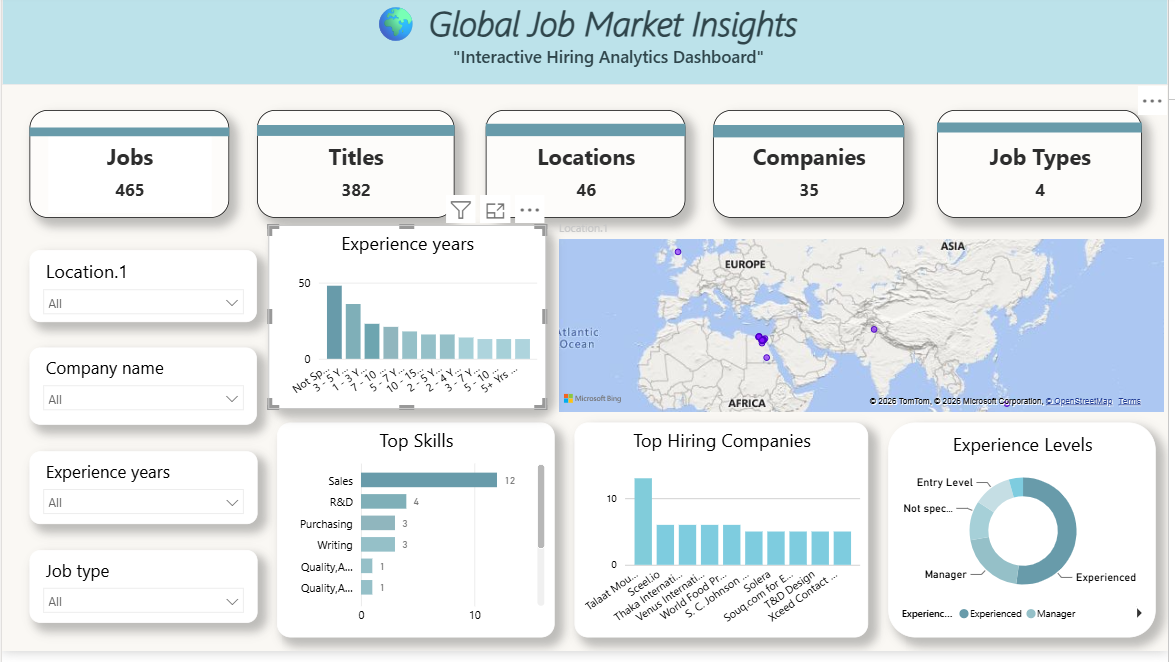

The dashboard page shown, as its layout file describes it:
{"tool":"powerbi","page":{"name":"Page 2","canvas":[1280,720],"ordinal":1},"visuals":[{"type":"cardVisual","fields":{"Data":["cleaned_dataset.Jobs","cleaned_dataset.Jobs"]},"box":[30.2,126.2,219.6,118],"z":2000},{"type":"cardVisual","fields":{"Data":["cleaned_dataset.Total Job Titles"]},"box":[279.9,126.2,216.8,118],"z":3000},{"type":"cardVisual","fields":{"Data":["cleaned_dataset.Total Locations"]},"box":[531,126.2,219.6,118],"z":4000},{"type":"cardVisual","fields":{"Data":["cleaned_dataset.Total Companies"]},"box":[780.8,126.2,209.9,118],"z":5000},{"type":"cardVisual","fields":{"Data":["cleaned_dataset.Total Job Types"]},"box":[1026.4,126.2,225,118],"z":6000},{"type":"shape","box":[30.2,145.5,219.6,9.6],"z":7000},{"type":"shape","box":[279.9,142.7,216.8,12.3],"z":8000},{"type":"shape","box":[531,141.3,219.6,13.7],"z":9000},{"type":"shape","box":[780.8,142.7,209.9,13.7],"z":10000},{"type":"shape","box":[1026.4,140,225,11],"z":11000},{"type":"slicer","fields":{"Values":["cleaned_dataset.Company name"]},"box":[30.2,387,249.7,85.1],"z":12000},{"type":"slicer","fields":{"Values":["cleaned_dataset.Location.1"]},"box":[30.2,279.9,249.7,79.6],"z":13000},{"type":"slicer","fields":{"Values":["cleaned_dataset.Job type"]},"box":[30.2,609.3,250,80.2],"z":14000},{"type":"slicer","fields":{"Values":["cleaned_dataset.Experience years"]},"box":[30.2,501.2,250,80.2],"z":15000},{"type":"columnChart","title":"Top Hiring Companies","fields":{"Category":["cleaned_dataset.Company name"],"Y":["CountNonNull(cleaned_dataset.Job type)"]},"box":[628.5,469.3,322.5,236],"z":16000},{"type":"lineClusteredColumnComboChart","title":" Experience years","fields":{"Category":["cleaned_dataset.Experience years"],"Y":["cleaned_dataset.Total Job Titles"]},"box":[292.3,252.5,304.6,201.7],"z":17000},{"type":"barChart","title":"Top Skills","fields":{"Category":["cleaned_dataset.Skills.1"],"Y":["cleaned_dataset.Total Job Titles"]},"box":[301.9,469.3,304.6,236],"z":18000},{"type":"donutChart","title":"Experience Levels","fields":{"Category":["cleaned_dataset.Experience Level"],"Y":["cleaned_dataset.Total Jobs"]},"box":[972.9,469.3,293.7,236],"z":19000},{"type":"map","fields":{"Category":["cleaned_dataset.Location.1"]},"box":[606.5,247,673.8,215.4],"z":19001},{"type":"textbox","box":[0,0,1280.3,98.8],"z":19002}]}

Visuals, with their boxes in screenshot pixels (x1, y1, x2, y2), scaled from the page's 1280x720 canvas onto the 1175x662 screenshot:
cardVisual - cleaned_dataset.Jobs x cleaned_dataset.Jobs: crop(28, 116, 229, 225)
cardVisual - cleaned_dataset.Total Job Titles: crop(257, 116, 456, 225)
cardVisual - cleaned_dataset.Total Locations: crop(487, 116, 689, 225)
cardVisual - cleaned_dataset.Total Companies: crop(717, 116, 909, 225)
cardVisual - cleaned_dataset.Total Job Types: crop(942, 116, 1149, 225)
shape: crop(28, 134, 229, 143)
shape: crop(257, 131, 456, 143)
shape: crop(487, 130, 689, 143)
shape: crop(717, 131, 909, 144)
shape: crop(942, 129, 1149, 139)
slicer - cleaned_dataset.Company name: crop(28, 356, 257, 434)
slicer - cleaned_dataset.Location.1: crop(28, 257, 257, 331)
slicer - cleaned_dataset.Job type: crop(28, 560, 257, 634)
slicer - cleaned_dataset.Experience years: crop(28, 461, 257, 535)
"Top Hiring Companies" columnChart: crop(577, 431, 873, 648)
" Experience years" lineClusteredColumnComboChart: crop(268, 232, 548, 418)
"Top Skills" barChart: crop(277, 431, 557, 648)
"Experience Levels" donutChart: crop(893, 431, 1163, 648)
map - cleaned_dataset.Location.1: crop(557, 227, 1174, 425)
textbox: crop(0, 0, 1174, 91)
